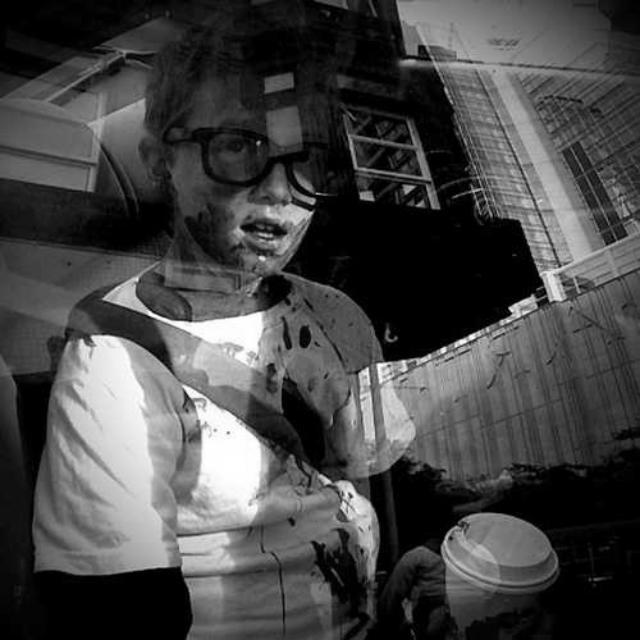Seatbelt: (0, 258, 346, 488)
